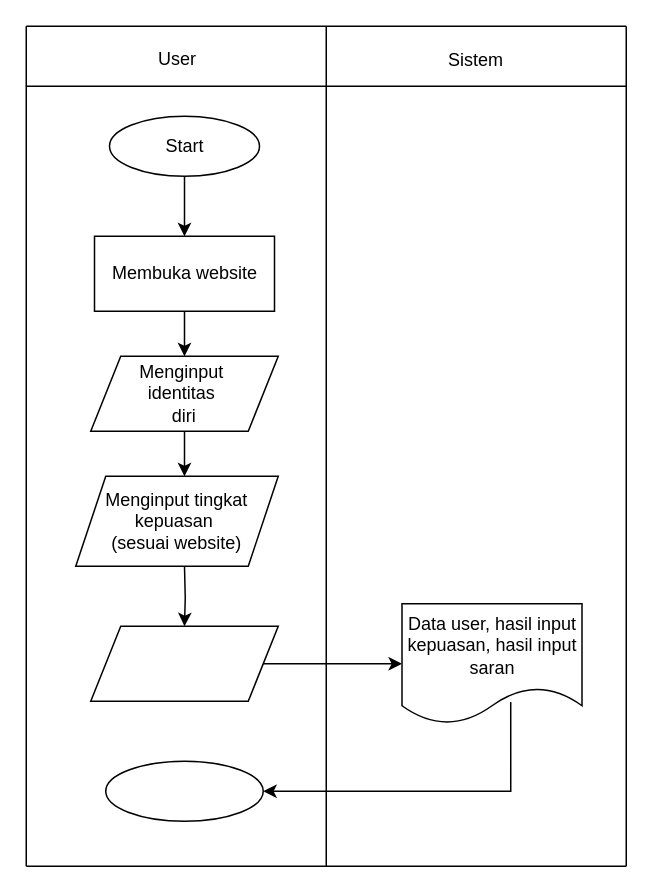
Image size: 654x894. Some labels were removed from this diagram. Each missing label, with the centre of its shape:
Finish: the point at 183,790
Menginput saran: the point at 183,663
